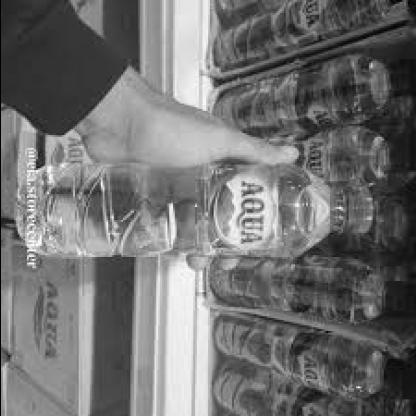plastic_bottles: (14, 158, 372, 258)
